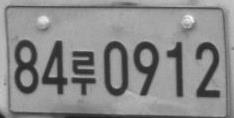0: (103, 40, 129, 96)
1: (164, 41, 192, 97)
2: (194, 40, 220, 98)
4: (41, 40, 67, 95)
8: (13, 38, 39, 94)
9: (132, 40, 159, 96)
루: (71, 50, 96, 96)
